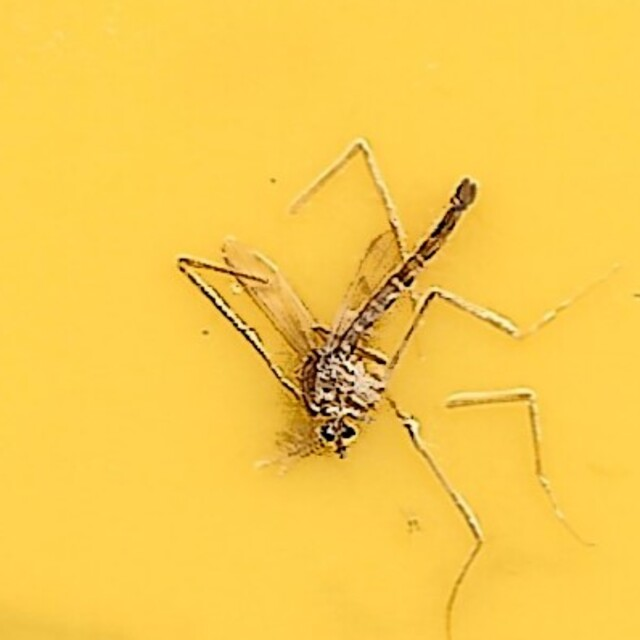Nematocera: (161, 158, 479, 482)
